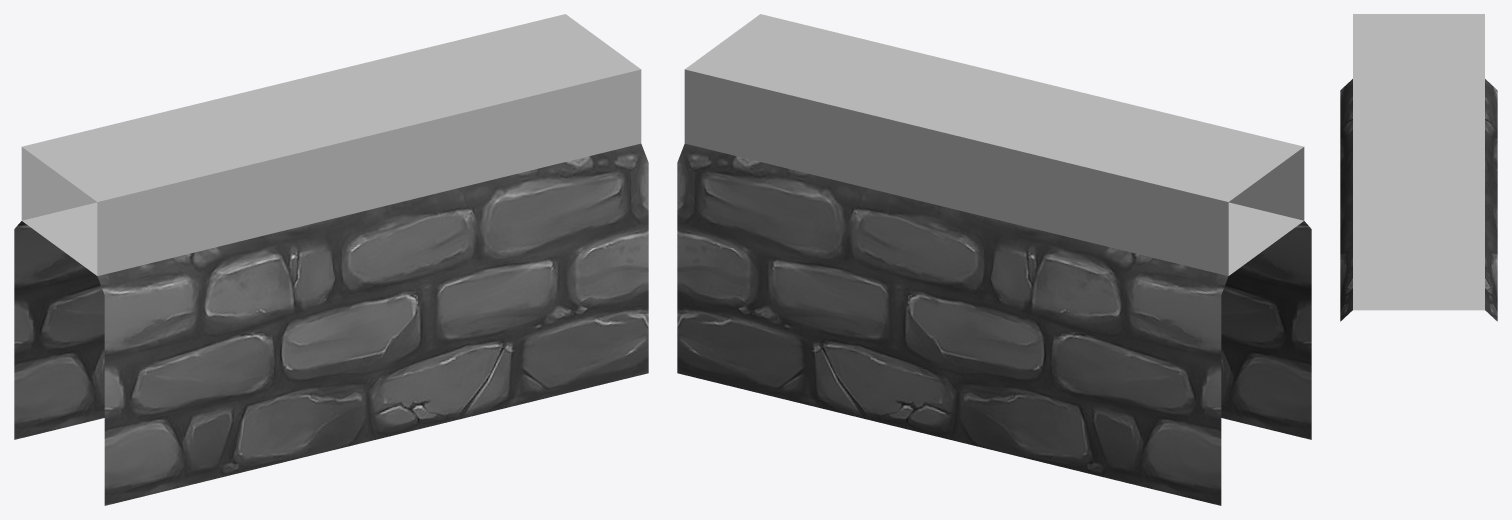
The model's file is MOD_cut_rock_wall_03.fbx.
3 renders of one model, left to right at view 1: azimuth 30°, elevation 25°; view 2: azimuth 150°, elevation 25°; view 3: azimuth 270°, elevation 25°, orthographic. The views are drawn at different scales.
Parts seen in each view (by area): view 1: cut_rock_wall_03; view 2: cut_rock_wall_03; view 3: cut_rock_wall_03.
Boxes of the visible parts, left/top/right/bottom form: cut_rock_wall_03: left=14, top=14, right=648, bottom=505; cut_rock_wall_03: left=677, top=14, right=1311, bottom=505; cut_rock_wall_03: left=1340, top=14, right=1497, bottom=321.
Bounding box in the file's own units: 78.74 × 22.62 × 41.3.
